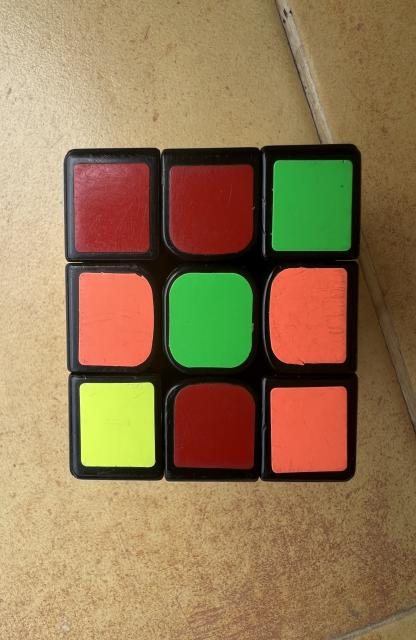Green: (169, 272, 252, 368), (272, 160, 353, 251)
Orange: (269, 268, 348, 365), (78, 272, 154, 366), (271, 386, 348, 472)
Red: (169, 165, 254, 255), (173, 384, 256, 470), (74, 164, 150, 252)
Yellow: (79, 382, 155, 468)
